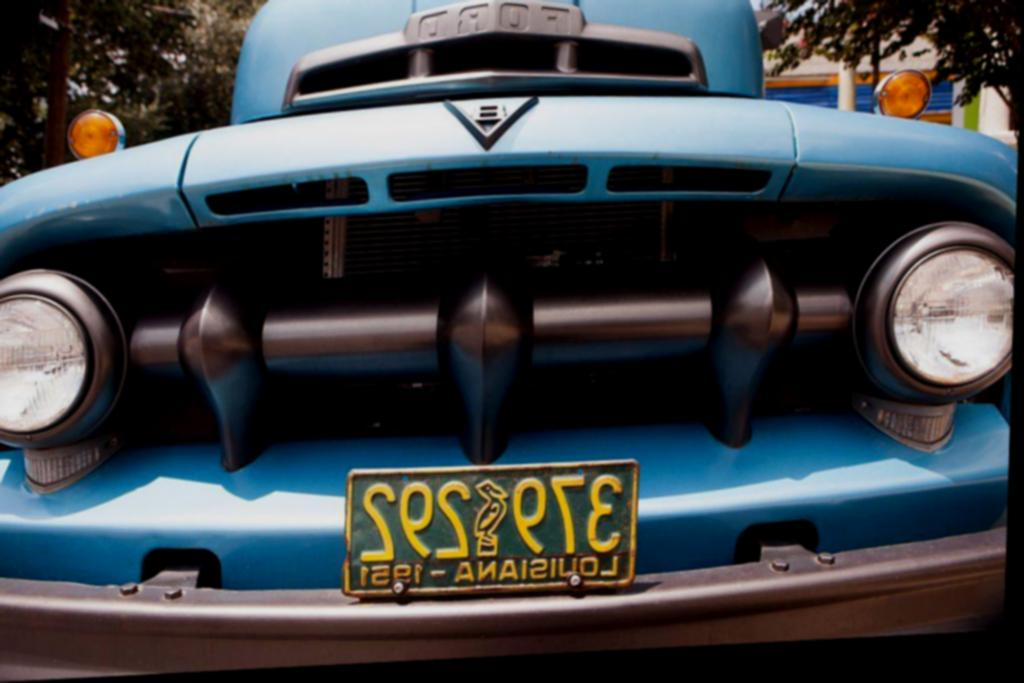License_Plate: (342, 458, 640, 601)
